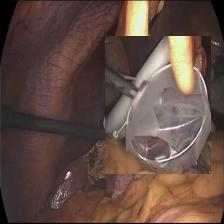Grasper: (177, 61, 217, 100)
Specimen Bag: (105, 36, 211, 174)
